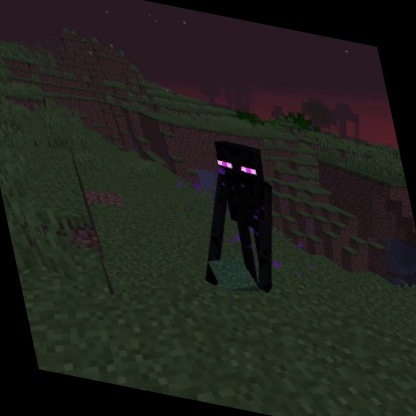enderman: (170, 129, 298, 305)
